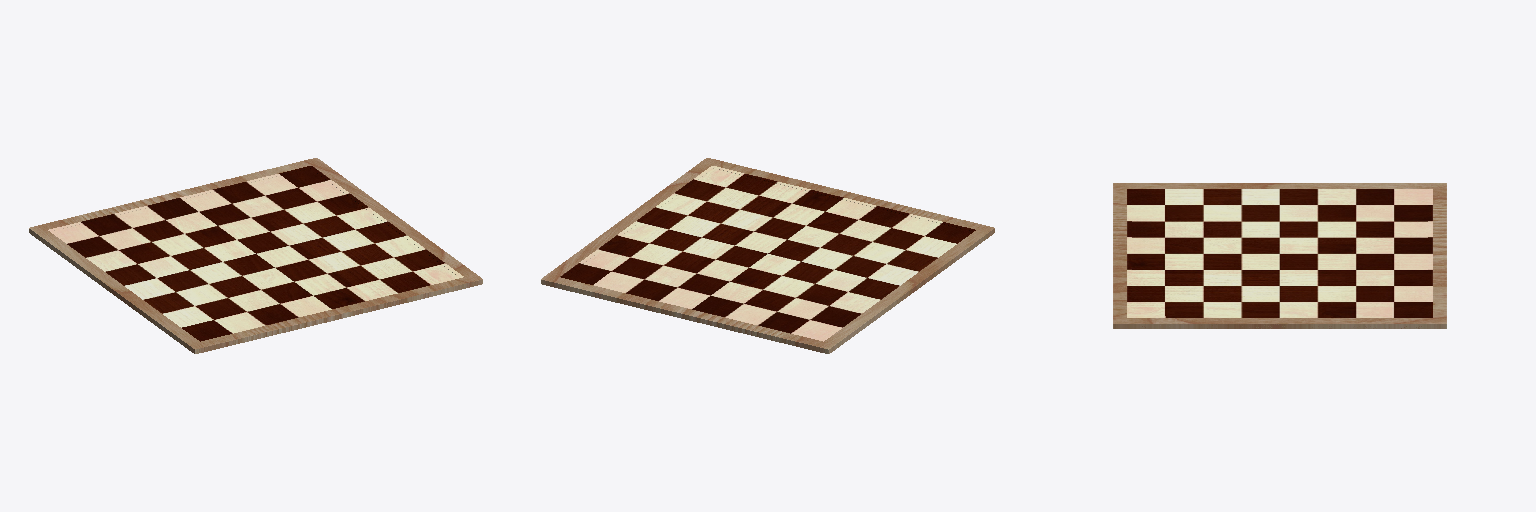
The picture shows the model from 3 angles: view 1: azimuth 30°, elevation 25°; view 2: azimuth 150°, elevation 25°; view 3: azimuth 270°, elevation 25°; orthographic projection.
Parts seen in each view (by area): view 1: Chess; view 2: Chess; view 3: Chess.
Boxes of the visible parts, <box> form: Chess: <box>29,158,482,353</box>; Chess: <box>541,158,994,353</box>; Chess: <box>1113,183,1446,328</box>.
Bounding box in the file's own units: 7.59 × 0.1231 × 7.59.
Materials: 1 (1 with a texture image).